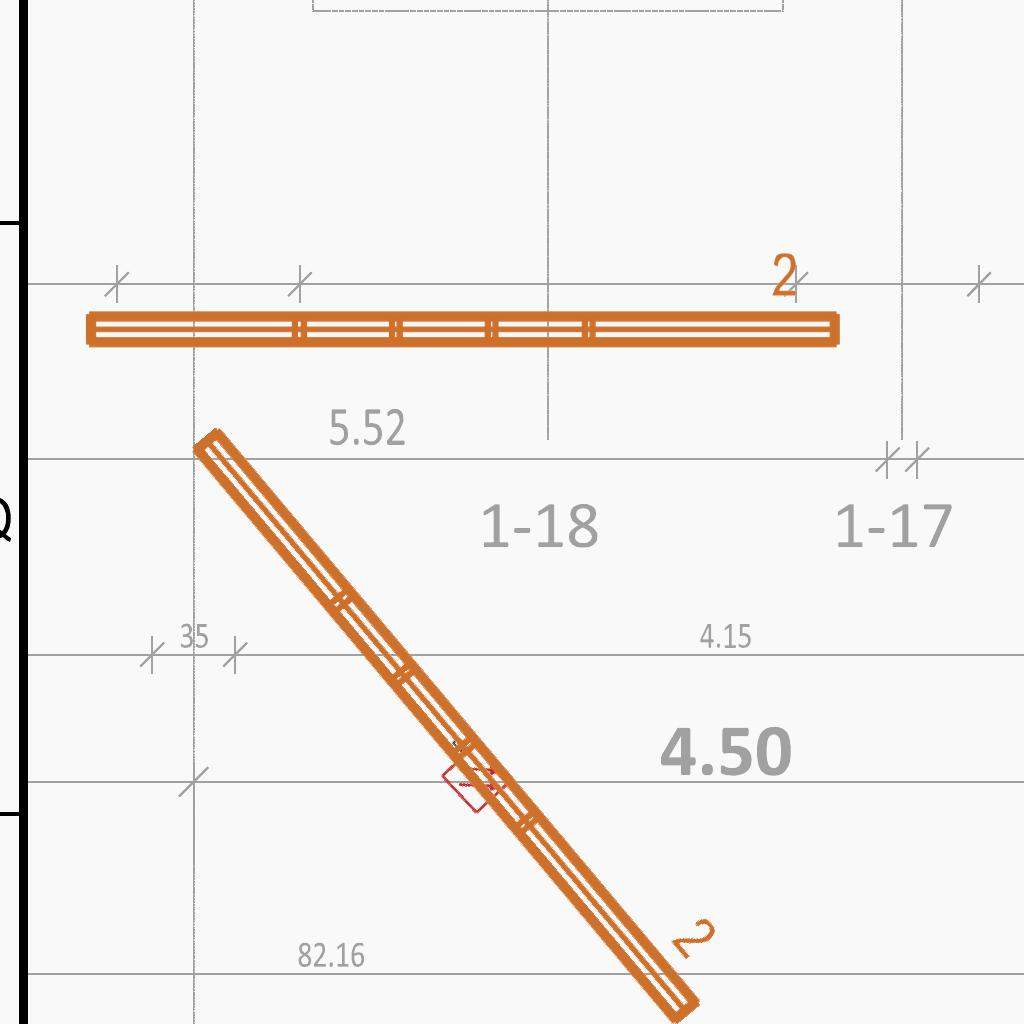Ambulanz_Pendelleuchte_LED: (173, 376, 757, 1024), (75, 248, 849, 360)
ZD_Melder_in_Zwischendecke_mit_Revisionsoeffnung_mind_40_x_40_cm: (424, 724, 517, 818)
